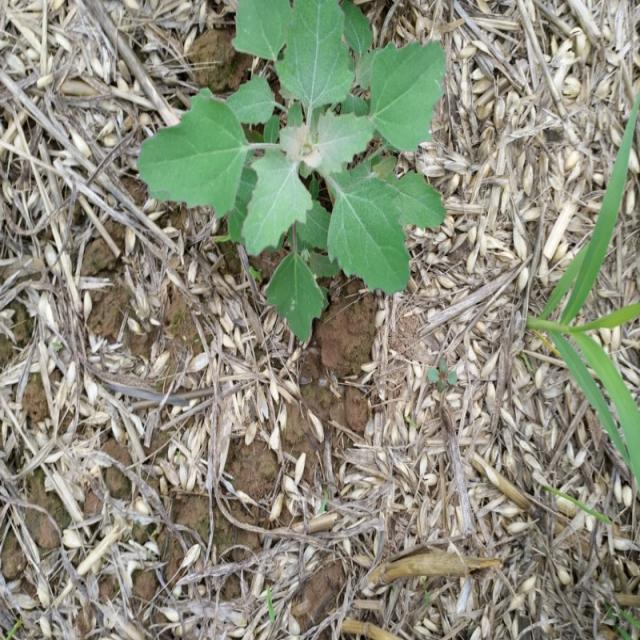goosefoots: (138, 0, 459, 309)
